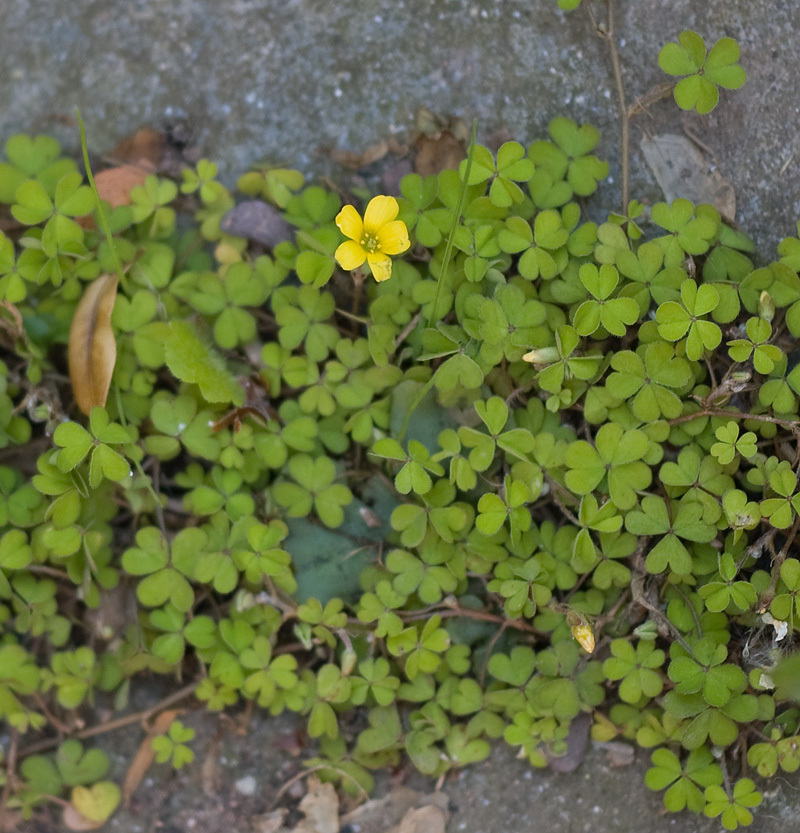oxalis: (69, 160, 761, 776)
